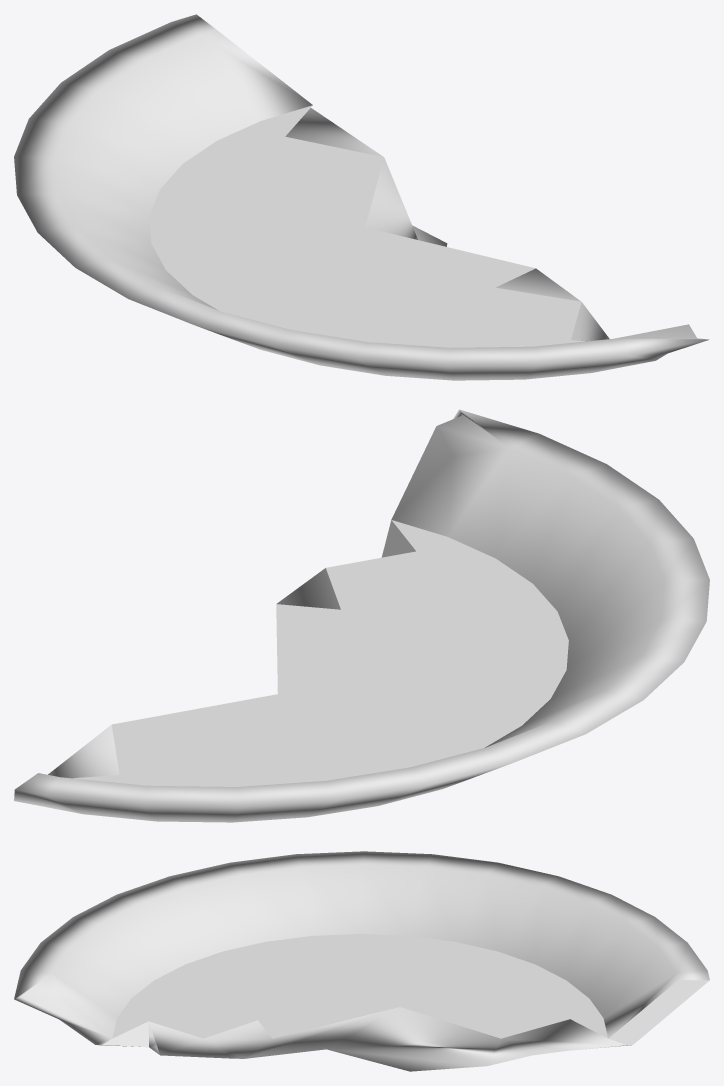
File: MitadPlato 1.fbx
3 views of the same model, one above another, from view 1: azimuth 30°, elevation 25°; view 2: azimuth 150°, elevation 25°; view 3: azimuth 270°, elevation 25° (orthographic). The views are drawn at different scales.
Parts seen in each view (by area): view 1: MitadPlato; view 2: MitadPlato; view 3: MitadPlato.
Boxes of the visible parts, bbox=[...] form: MitadPlato: bbox=[14, 14, 709, 380]; MitadPlato: bbox=[14, 409, 709, 822]; MitadPlato: bbox=[14, 851, 709, 1071].
Bounding box in the file's own units: 130 × 29.68 × 259.
